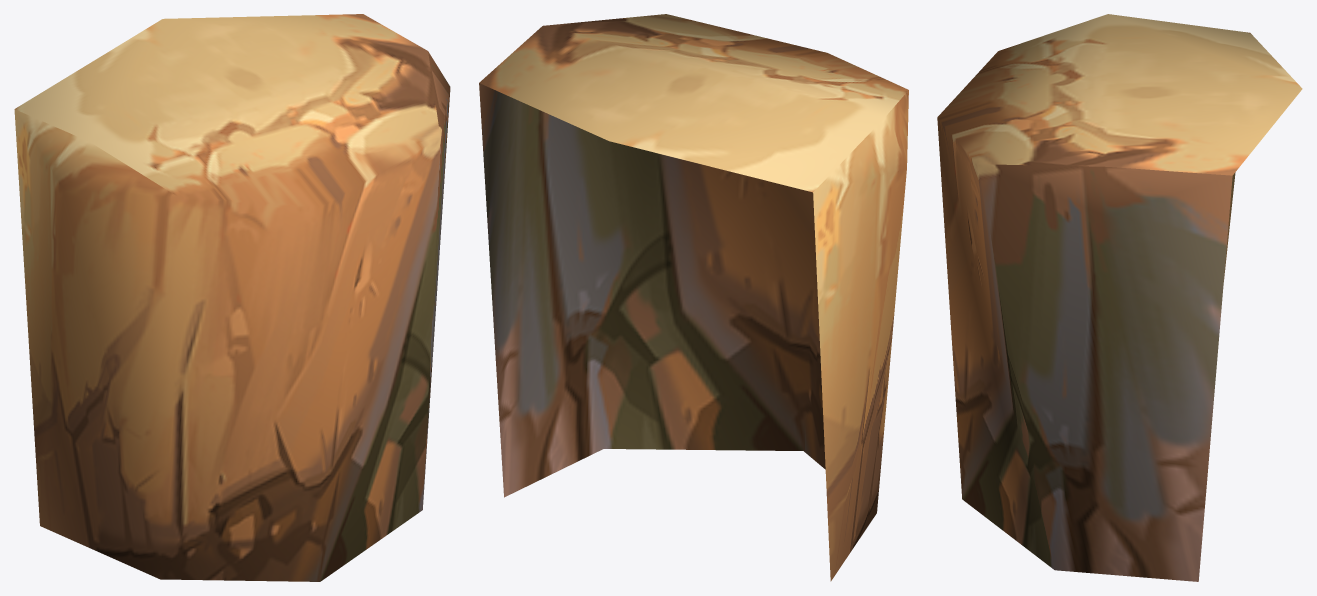
File: Chapter1Scene1Model44.FBX
3 renders of one model, left to right at view 1: azimuth 30°, elevation 25°; view 2: azimuth 150°, elevation 25°; view 3: azimuth 270°, elevation 25°, orthographic. The views are drawn at different scales.
Parts seen in each view (by area): view 1: Chapter1Scene1Model44; view 2: Chapter1Scene1Model44; view 3: Chapter1Scene1Model44.
Boxes of the visible parts, x1,y1,x2,y2 form: Chapter1Scene1Model44: (14,14,450,581); Chapter1Scene1Model44: (479,14,908,581); Chapter1Scene1Model44: (937,14,1302,581).
Size of the model in its own units: 252 by 214 by 272.
